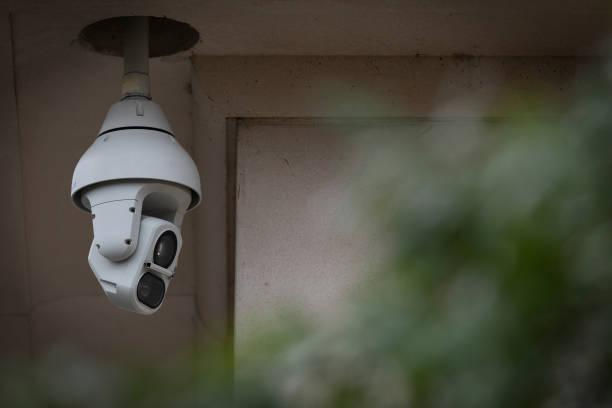camera: (53, 94, 217, 322)
